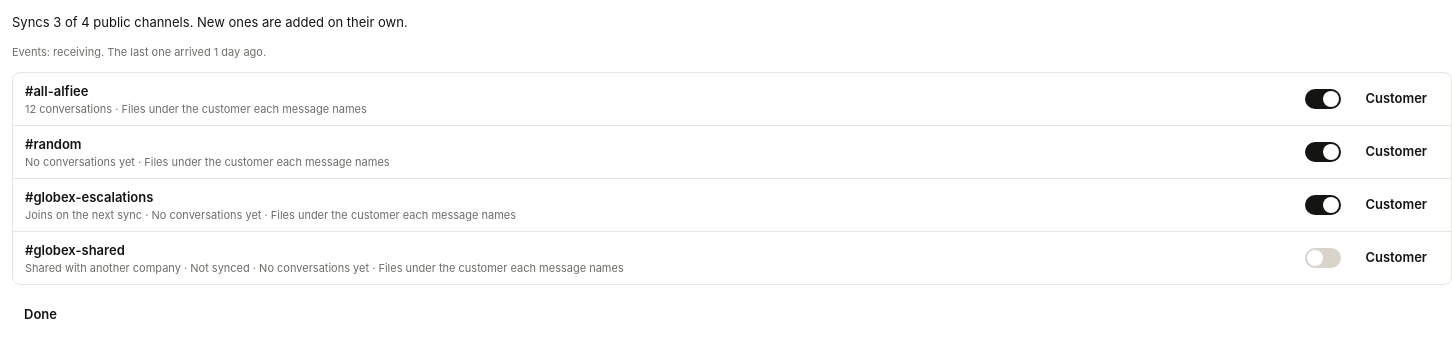
Test: SlackChannelsPanel (frontend Decisions 2 to 4) › shows a refusal under its row
Expected: the text "#random" is shown, [25, 136, 82, 152]
Click the switch named "Sync #random": (1323, 152) [1301, 134, 1345, 170]
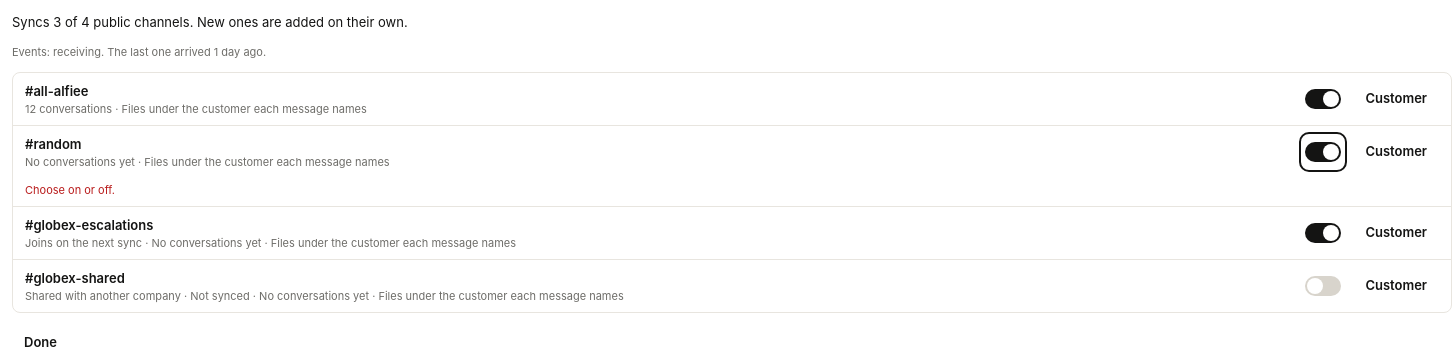
Expected: the message reads "Choose on or off.", [25, 183, 115, 197]
